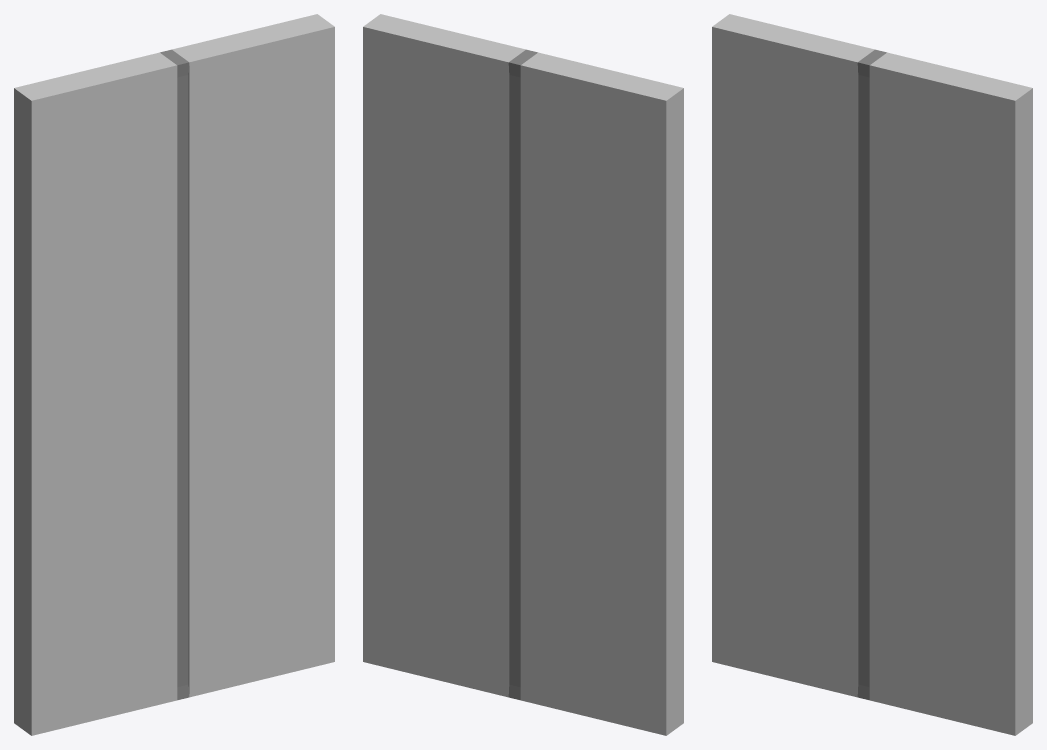
The model's file is ConcreteSmall.fbx.
3 renders of one model, left to right at view 1: azimuth 30°, elevation 25°; view 2: azimuth 150°, elevation 25°; view 3: azimuth 330°, elevation 25°, orthographic.
Parts seen in each view (by area): view 1: ConcreteSmall; view 2: ConcreteSmall; view 3: ConcreteSmall.
Part boxes in pixels (x1,y1,x2,y2): ConcreteSmall: (14,14,334,735); ConcreteSmall: (363,14,683,735); ConcreteSmall: (712,14,1032,735).
Size of the model in its own units: 100 by 200 by 10.
